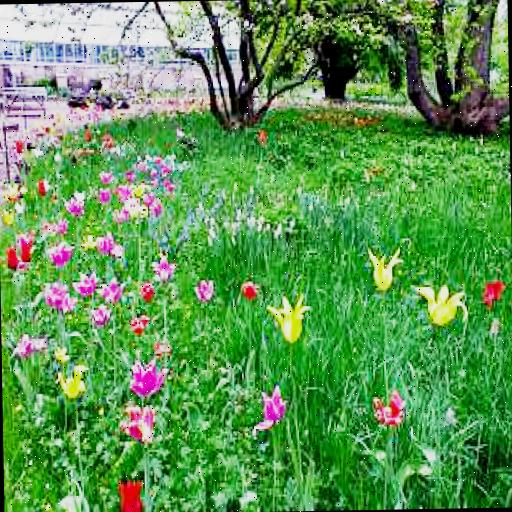tulip: (268, 296, 310, 344), (418, 282, 468, 321), (252, 386, 286, 429), (128, 360, 166, 395), (370, 247, 404, 286), (58, 365, 90, 396)
